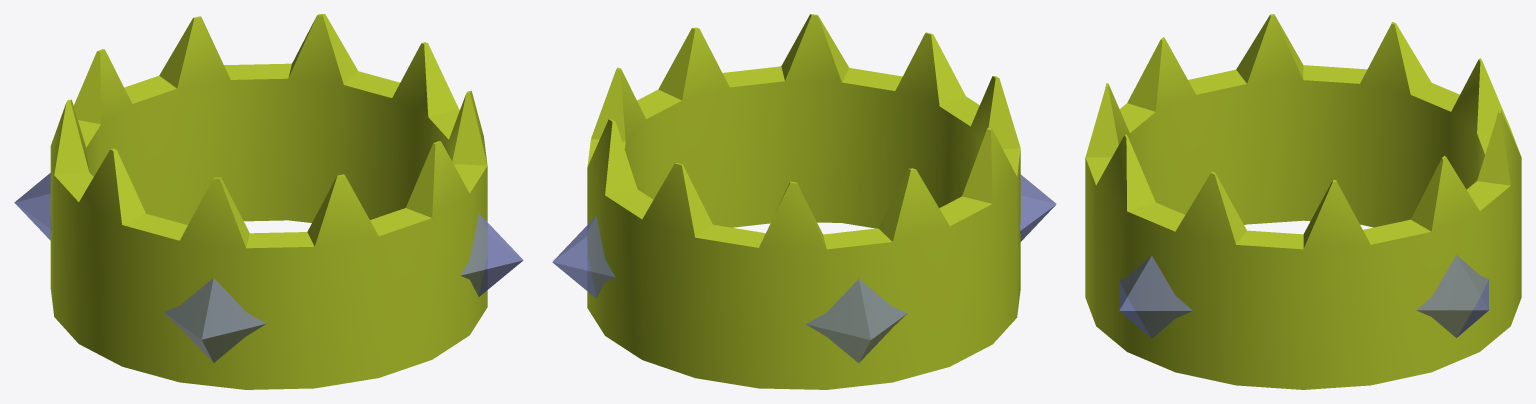
The model's file is Crown Jewels.fbx.
The picture shows the model from 3 angles, left to right: view 1: azimuth 30°, elevation 25°; view 2: azimuth 150°, elevation 25°; view 3: azimuth 270°, elevation 25°; orthographic projection.
Visible parts, largest first — view 1: pPipe2; view 2: pPipe2; view 3: pPipe2.
Part boxes in pixels (x1,y1,x2,y2): pPipe2: [14, 14, 523, 389]; pPipe2: [552, 14, 1056, 389]; pPipe2: [1085, 14, 1521, 389].
Bounding box in the file's own units: 6.13 × 3.1 × 6.13.
